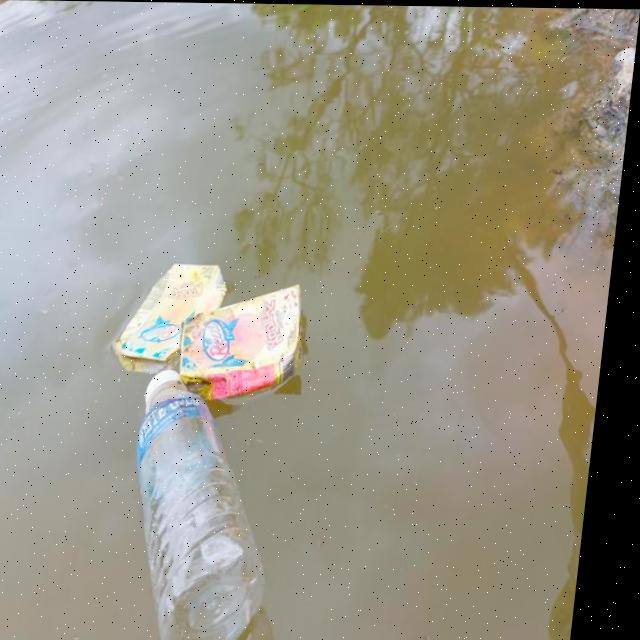paper: (174, 276, 325, 404), (92, 251, 244, 371)
waterbottle: (121, 368, 299, 640)
